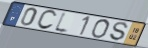0: (19, 7, 38, 27)
1: (79, 16, 91, 37)
C: (35, 10, 58, 31)
L: (52, 11, 70, 36)
O: (90, 19, 111, 39)
S: (109, 22, 129, 42)
